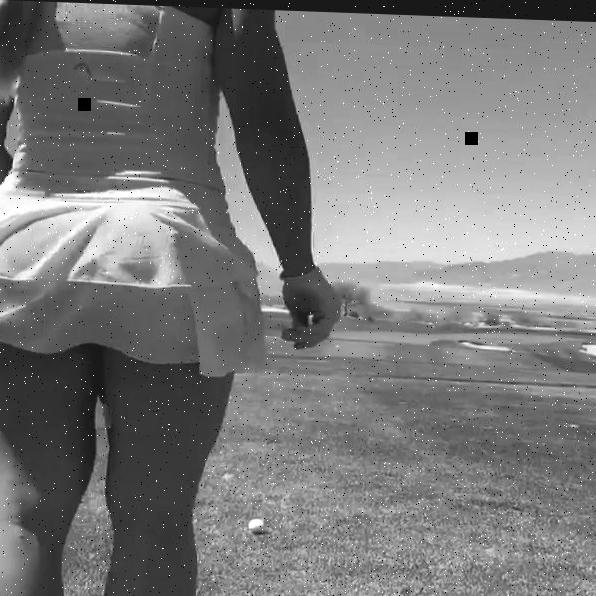GolfBall: (240, 513, 267, 534)
